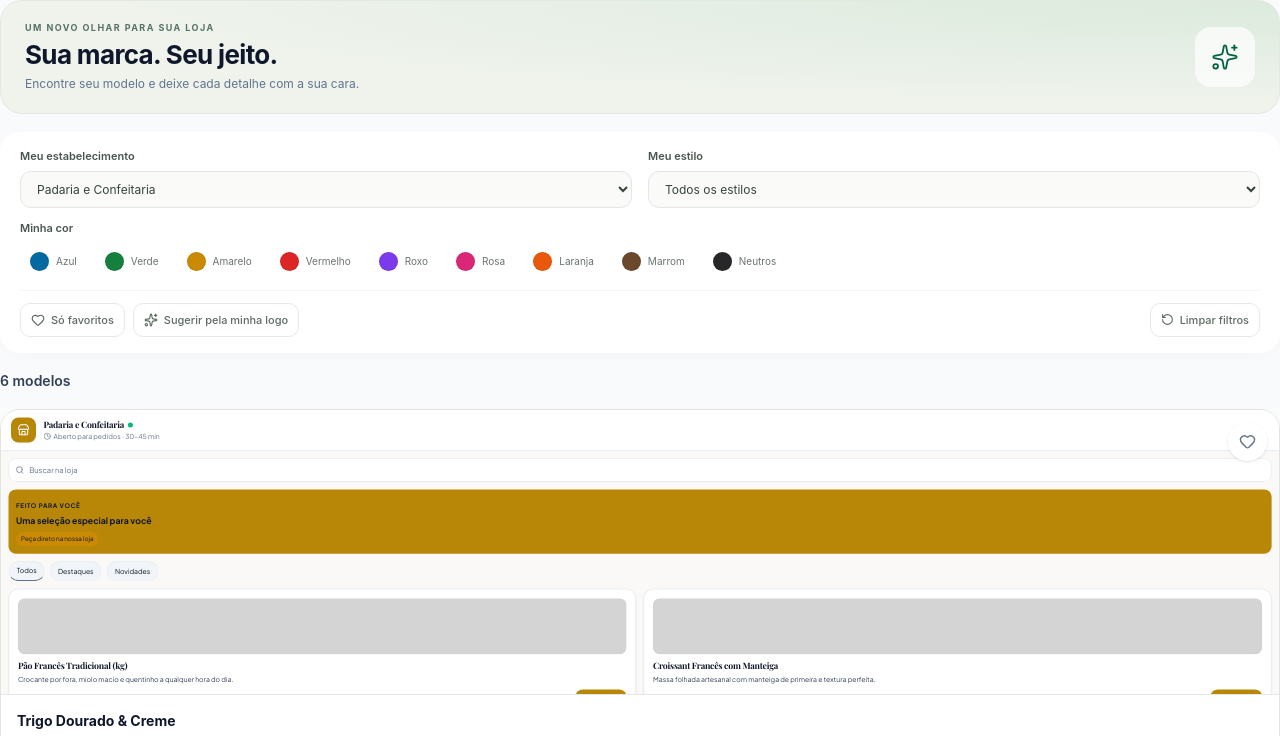
Scenario: galeria de modelos › pré-seleciona o segmento e combina padaria + azul
Expected: the dropdown labelled "Meu estabelecimento" shows "Padaria e Confeitaria", [20, 171, 632, 208]
Click the button "Azul".
click(53, 261)  # box [20, 244, 87, 278]
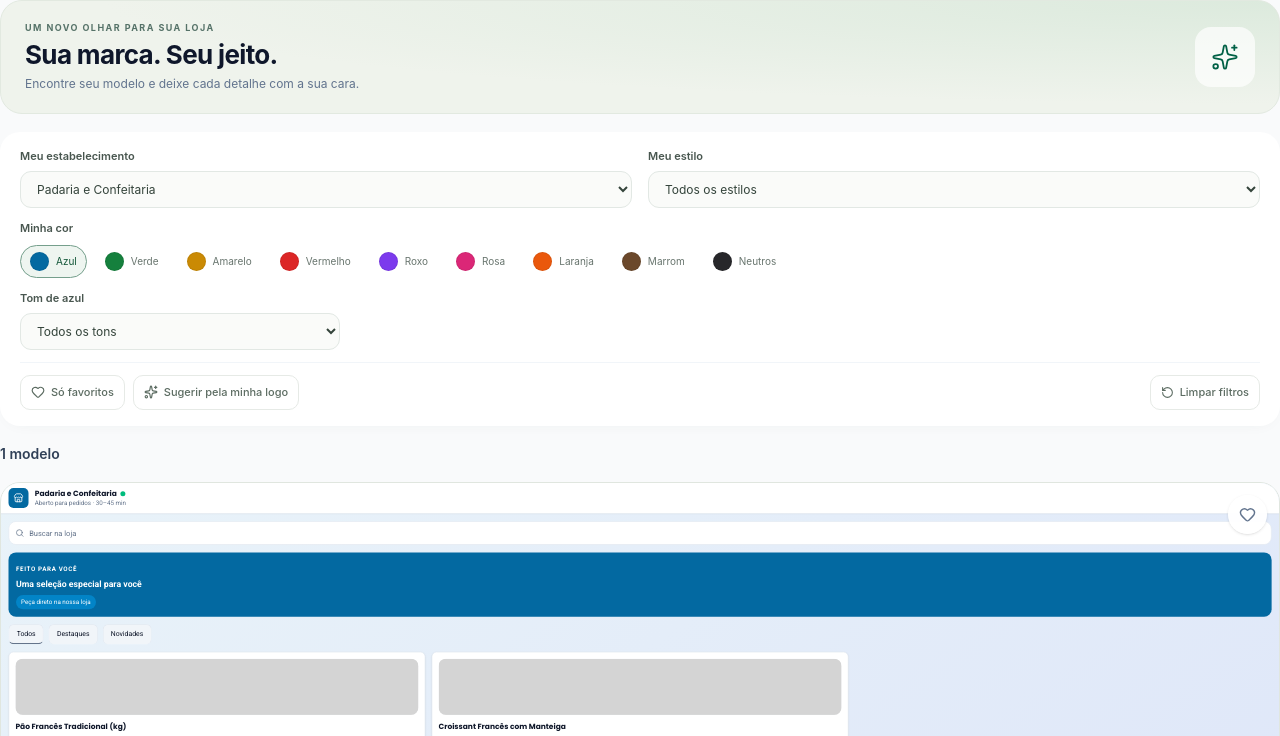
Select "Escuro" in the dropdown labelled "Meu estilo" at (954, 190), box [648, 171, 1260, 208]
(page scrolled)
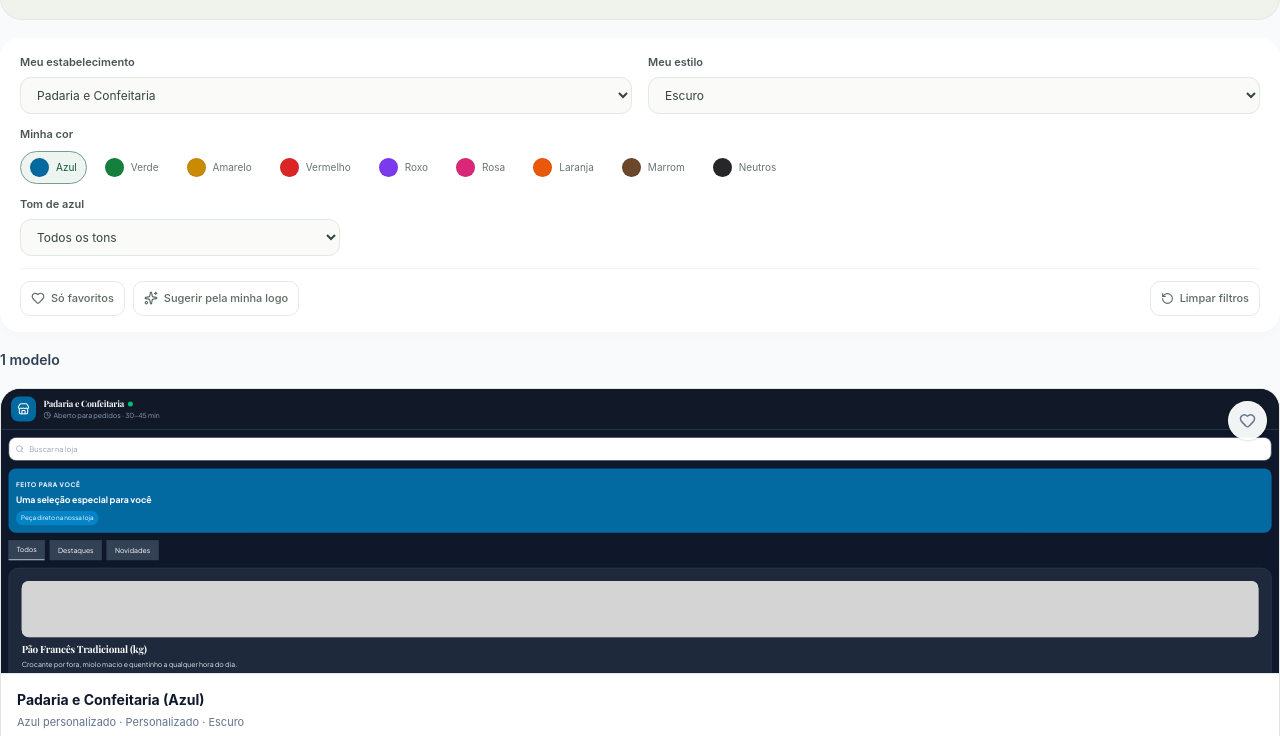
Result: the element with test id "template-card" shows "Escuro" at [208, 714, 244, 728]
